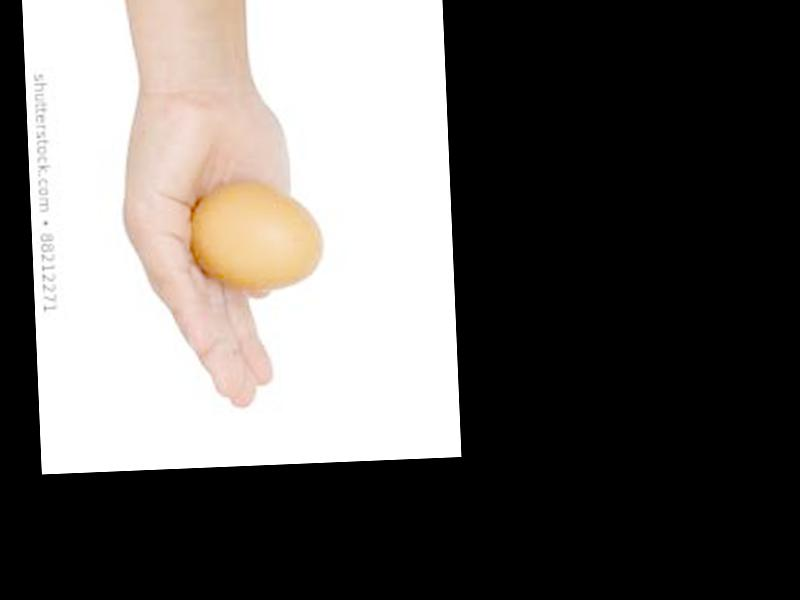Eggs: (186, 179, 325, 293)
